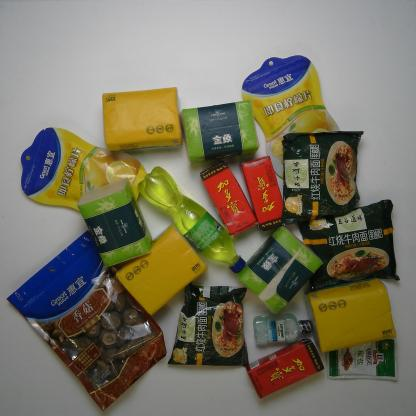Dried Food: (5, 229, 168, 412)
Dried Fruit: (242, 54, 340, 180), (20, 126, 147, 216)
Drink: (136, 166, 246, 274), (246, 338, 325, 400), (200, 160, 259, 238), (240, 155, 288, 231)
Instant Noodles: (297, 199, 401, 295), (281, 131, 364, 226), (167, 281, 249, 367)
Personal Hygiene: (252, 314, 314, 346)
Seasoner: (325, 338, 398, 380)
Tissue: (115, 223, 208, 316), (236, 225, 324, 314), (76, 176, 153, 268), (304, 278, 396, 354), (102, 87, 184, 154), (179, 99, 260, 165)
